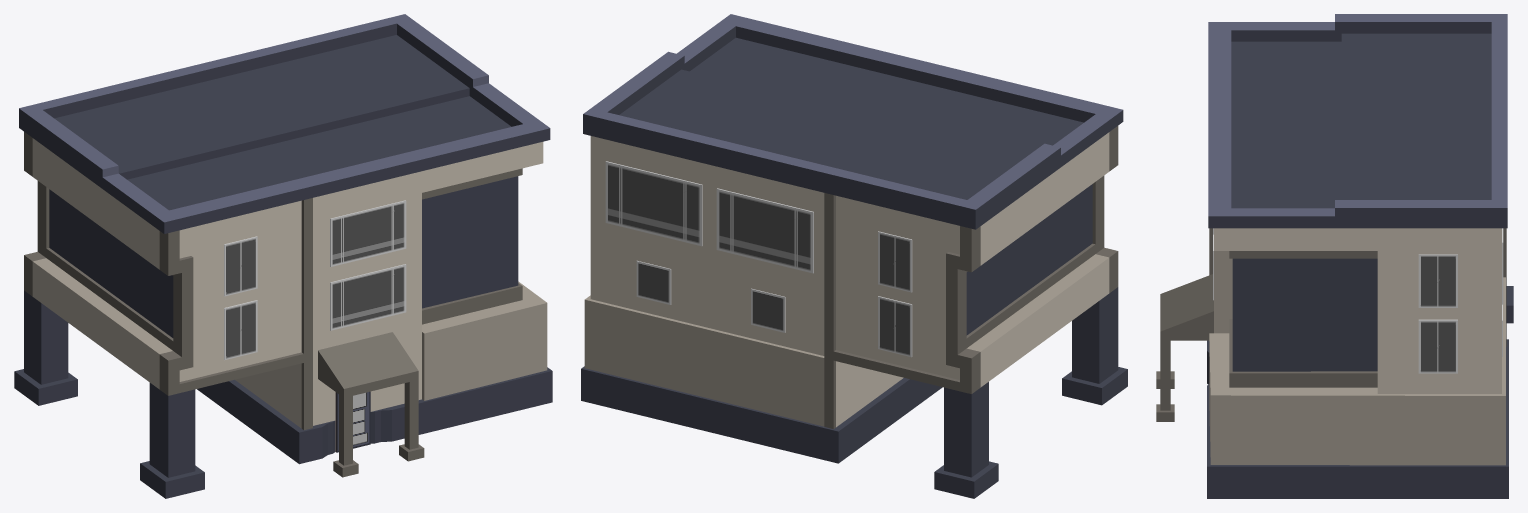
Rendered from house10_color03.fbx.
The picture shows the model from 3 angles, left to right: view 1: azimuth 30°, elevation 25°; view 2: azimuth 150°, elevation 25°; view 3: azimuth 270°, elevation 25°; orthographic projection. The views are drawn at different scales.
Visible parts, largest first — view 1: house10_color03; view 2: house10_color03; view 3: house10_color03.
Boxes of the visible parts, x1,y1,x2,y2 form: house10_color03: (14,14,552,498); house10_color03: (581,14,1127,498); house10_color03: (1156,14,1513,498).
Bounding box in the file's own units: 1444 × 1000 × 1116.
